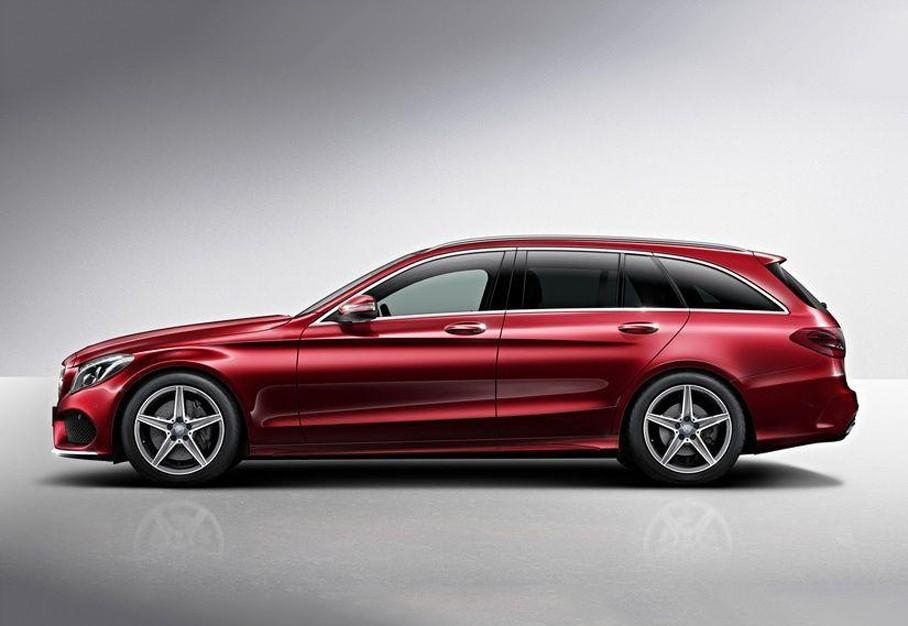Wagon: (51, 237, 859, 490)
